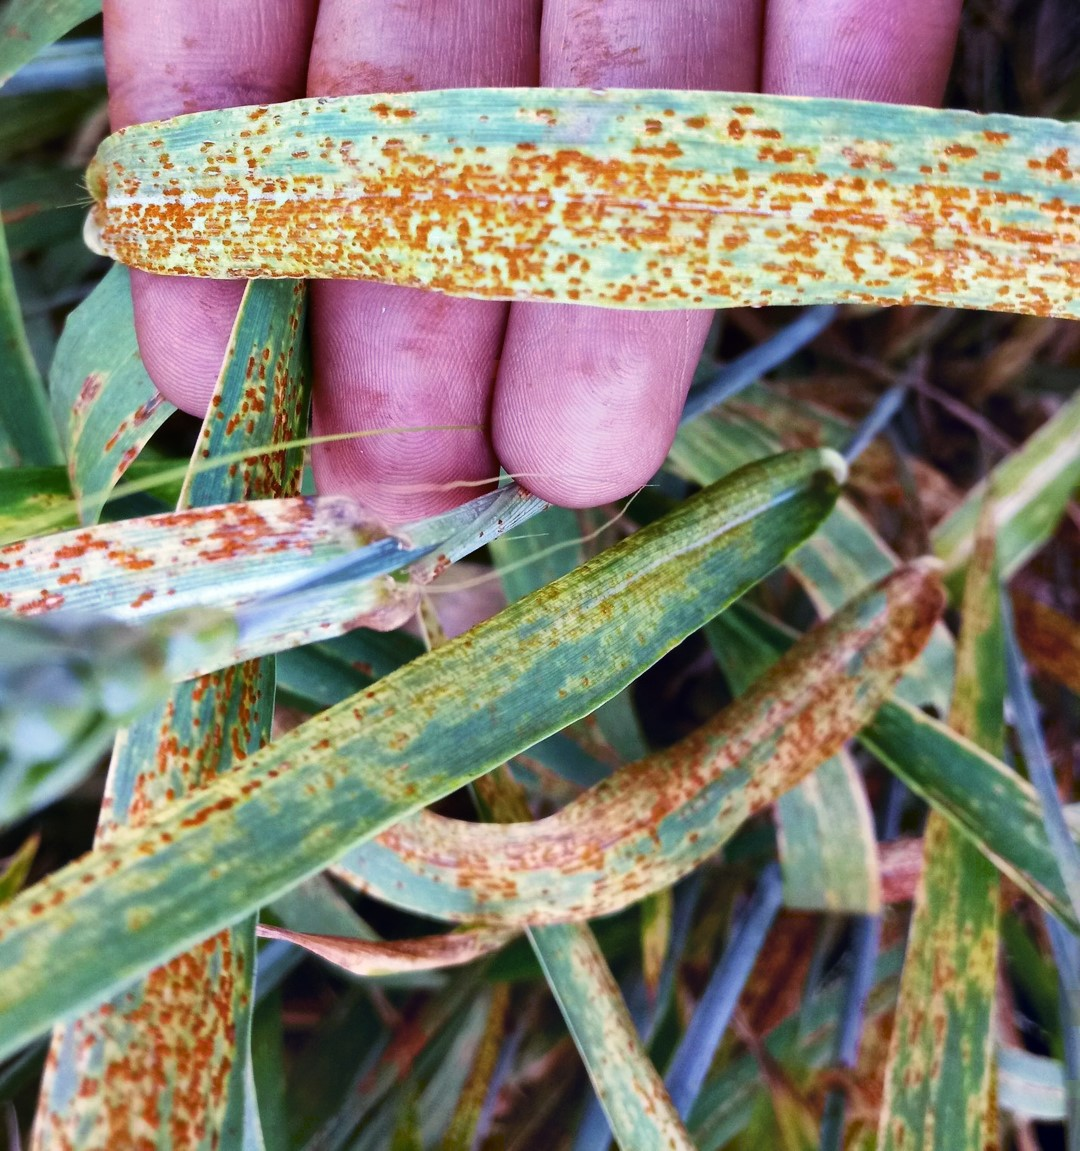Leaf Rust: (109, 96, 1054, 331)
